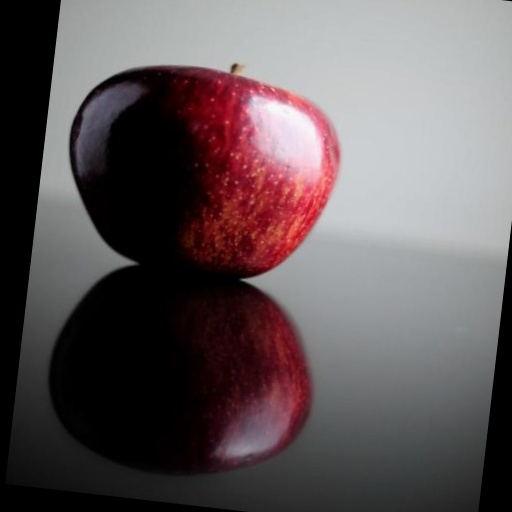fruit: (69, 66, 338, 277), (50, 267, 310, 473)
